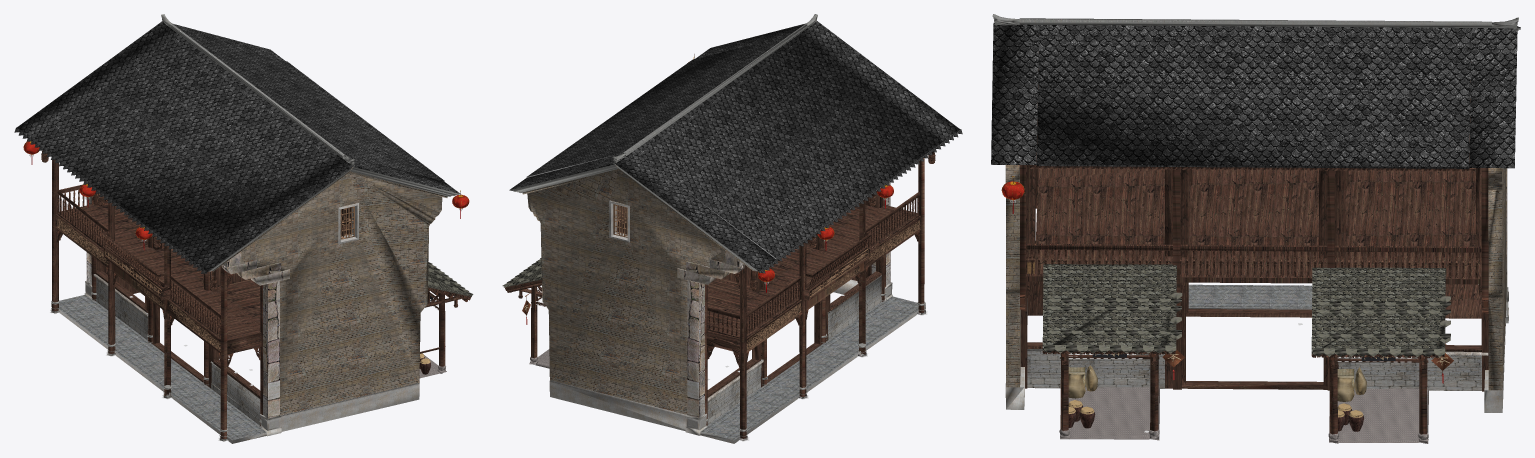
The picture shows the model from 3 angles, left to right: view 1: azimuth 30°, elevation 25°; view 2: azimuth 150°, elevation 25°; view 3: azimuth 270°, elevation 25°; orthographic projection. The views are drawn at different scales.
Parts seen in each view (by area): view 1: building3; view 2: building3; view 3: building3.
Boxes of the visible parts, box(x1,y1,x2,y2) form: building3: box(14, 14, 473, 443); building3: box(502, 14, 962, 443); building3: box(991, 14, 1520, 443).
Bounding box in the file's own units: 15.74 × 13.25 × 18.23.
Materials: 32 (27 with a texture image).
